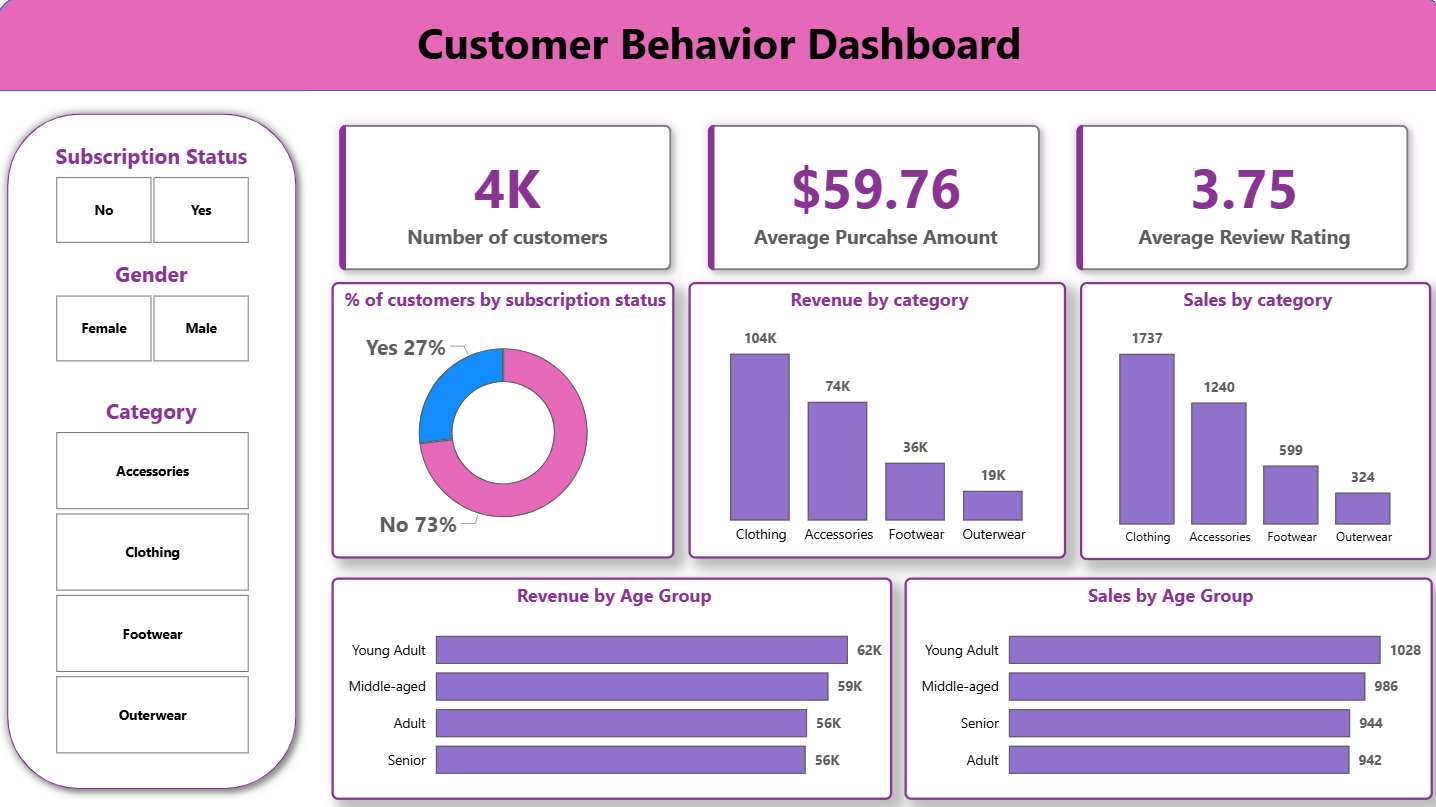

Layout of this report page (visuals, bound fields, positions):
{"tool":"powerbi","page":{"name":"Customer Behavior Dashboard","canvas":[1280,720],"ordinal":0},"visuals":[{"type":"shape","box":[0,0,1280.6,83.6],"z":0},{"type":"textbox","box":[76.1,9,1126.9,67.2],"z":1000},{"type":"cardVisual","fields":{"Data":["customer.Number of customers","customer.Average Purcahse Amount","customer.Average Review Rating"]},"box":[273.8,83.1,1006.2,187.7],"z":2000},{"type":"shape","box":[0,93.8,273.8,615.4],"z":3000},{"type":"donutChart","title":"% of customers by subscription status","fields":{"Y":["customer.Number of customers"],"Category":["customer.subscription_status"]},"box":[295.4,252.3,303.1,244.6],"z":4000},{"type":"clusteredColumnChart","title":"Revenue by category","fields":{"Category":["customer.category"],"Y":["Sum(customer.purchase_amount)"]},"box":[612.3,252.3,333.8,244.6],"z":5000},{"type":"clusteredColumnChart","title":"Sales by category","fields":{"Category":["customer.category"],"Y":["CountNonNull(customer.customer_id)"]},"box":[958.5,252.3,310.8,246.2],"z":6000},{"type":"slicer","title":"Subscription Status","fields":{"Values":["customer.subscription_status"]},"box":[26.2,127.7,220,96.9],"z":7000},{"type":"slicer","title":"Gender","fields":{"Values":["customer.gender"]},"box":[26.2,232.3,220,96.9],"z":8000},{"type":"slicer","title":"Category","fields":{"Values":["customer.category"]},"box":[26.2,352.3,220,323.1],"z":9000},{"type":"clusteredBarChart","title":"Revenue by Age Group","fields":{"Category":["customer.age_group"],"Y":["Sum(customer.purchase_amount)"]},"box":[295.9,513.5,496.2,196.4],"z":10000},{"type":"clusteredBarChart","title":"Sales by Age Group","fields":{"Category":["customer.age_group"],"Y":["CountNonNull(customer.customer_id)"]},"box":[802.7,513.5,467,196.4],"z":11000}]}

Visuals, with their boxes in screenshot pixels (x1, y1, x2, y2), scaled from the page's 1280x720 canvas onto the 1436x807 screenshot:
shape: l=0, t=0, r=1435, b=94
textbox: l=85, t=10, r=1350, b=85
cardVisual - customer.Number of customers x customer.Average Purcahse Amount: l=307, t=93, r=1435, b=304
shape: l=0, t=105, r=307, b=795
"% of customers by subscription status" donutChart: l=331, t=283, r=671, b=557
"Revenue by category" clusteredColumnChart: l=687, t=283, r=1061, b=557
"Sales by category" clusteredColumnChart: l=1075, t=283, r=1424, b=559
"Subscription Status" slicer: l=29, t=143, r=276, b=252
"Gender" slicer: l=29, t=260, r=276, b=369
"Category" slicer: l=29, t=395, r=276, b=757
"Revenue by Age Group" clusteredBarChart: l=332, t=576, r=889, b=796
"Sales by Age Group" clusteredBarChart: l=901, t=576, r=1424, b=796
